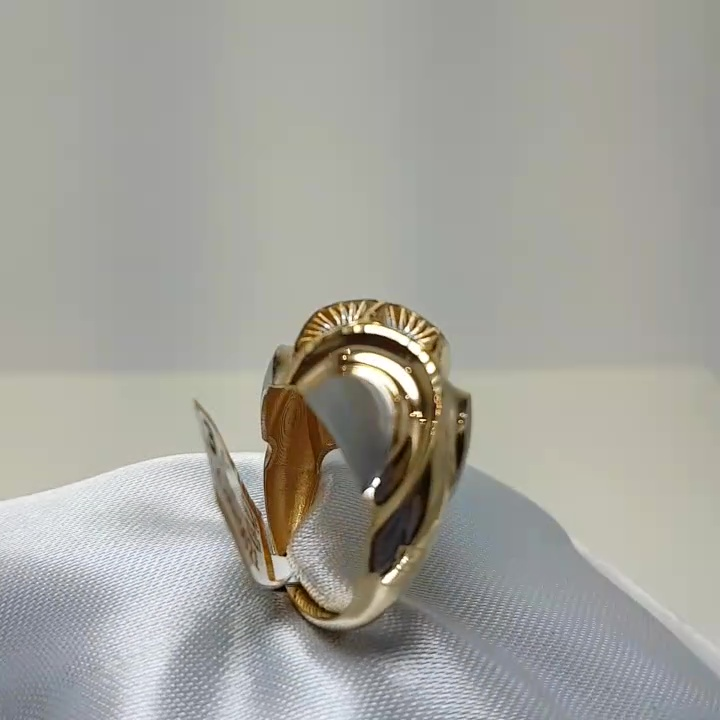Ring 2: (230, 273, 518, 634)
